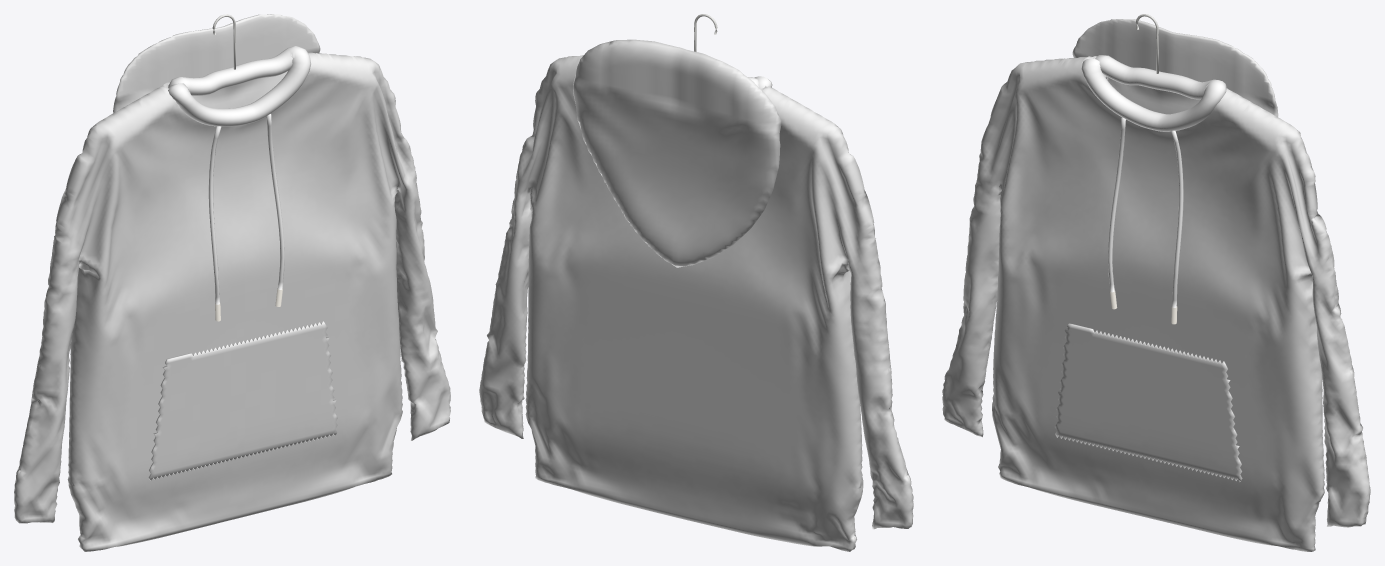
The model's file is hoodie-v3.glb.
3 renders of one model, left to right at view 1: azimuth 30°, elevation 25°; view 2: azimuth 150°, elevation 25°; view 3: azimuth 330°, elevation 25°, orthographic.
Visible parts, largest first — view 1: Shirt, Pocket, Hood, HoodEdge, CordL, CordR; view 2: Shirt, Hood; view 3: Shirt, Pocket, Hood, HoodEdge, CordR, CordL.
Boxes of the visible parts, box(x1,y1,x2,y2) form: Shirt: box(14, 52, 450, 551); Pocket: box(148, 321, 337, 480); Hood: box(113, 14, 320, 112); HoodEdge: box(168, 46, 310, 126); CordL: box(208, 126, 221, 304); CordR: box(266, 114, 284, 289); Shirt: box(479, 55, 913, 551); Hood: box(573, 39, 781, 267); Shirt: box(942, 56, 1370, 551); Pocket: box(1055, 323, 1242, 481); Hood: box(1072, 19, 1278, 116); HoodEdge: box(1081, 55, 1226, 131); CordR: box(1171, 130, 1183, 307); CordL: box(1108, 117, 1125, 292).
Size of the model in its own units: 0.7335 by 0.8213 by 0.1185.
Materials: 5 (1 with a texture image).
